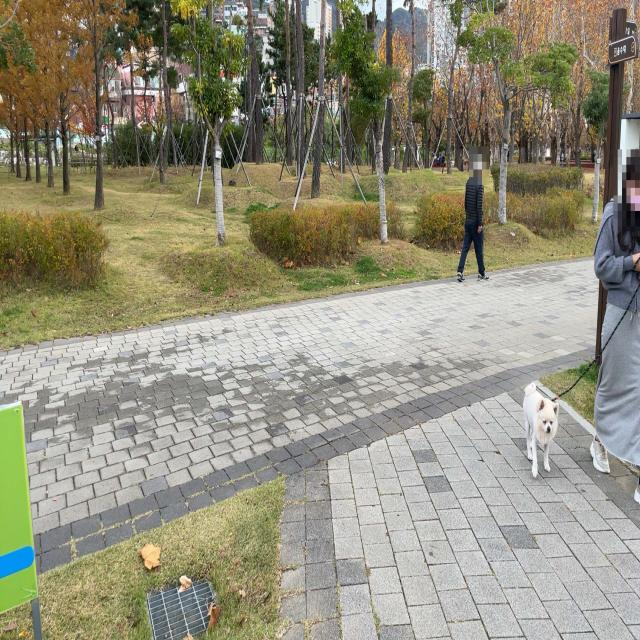Leashed_Dog: (523, 255, 623, 479)
